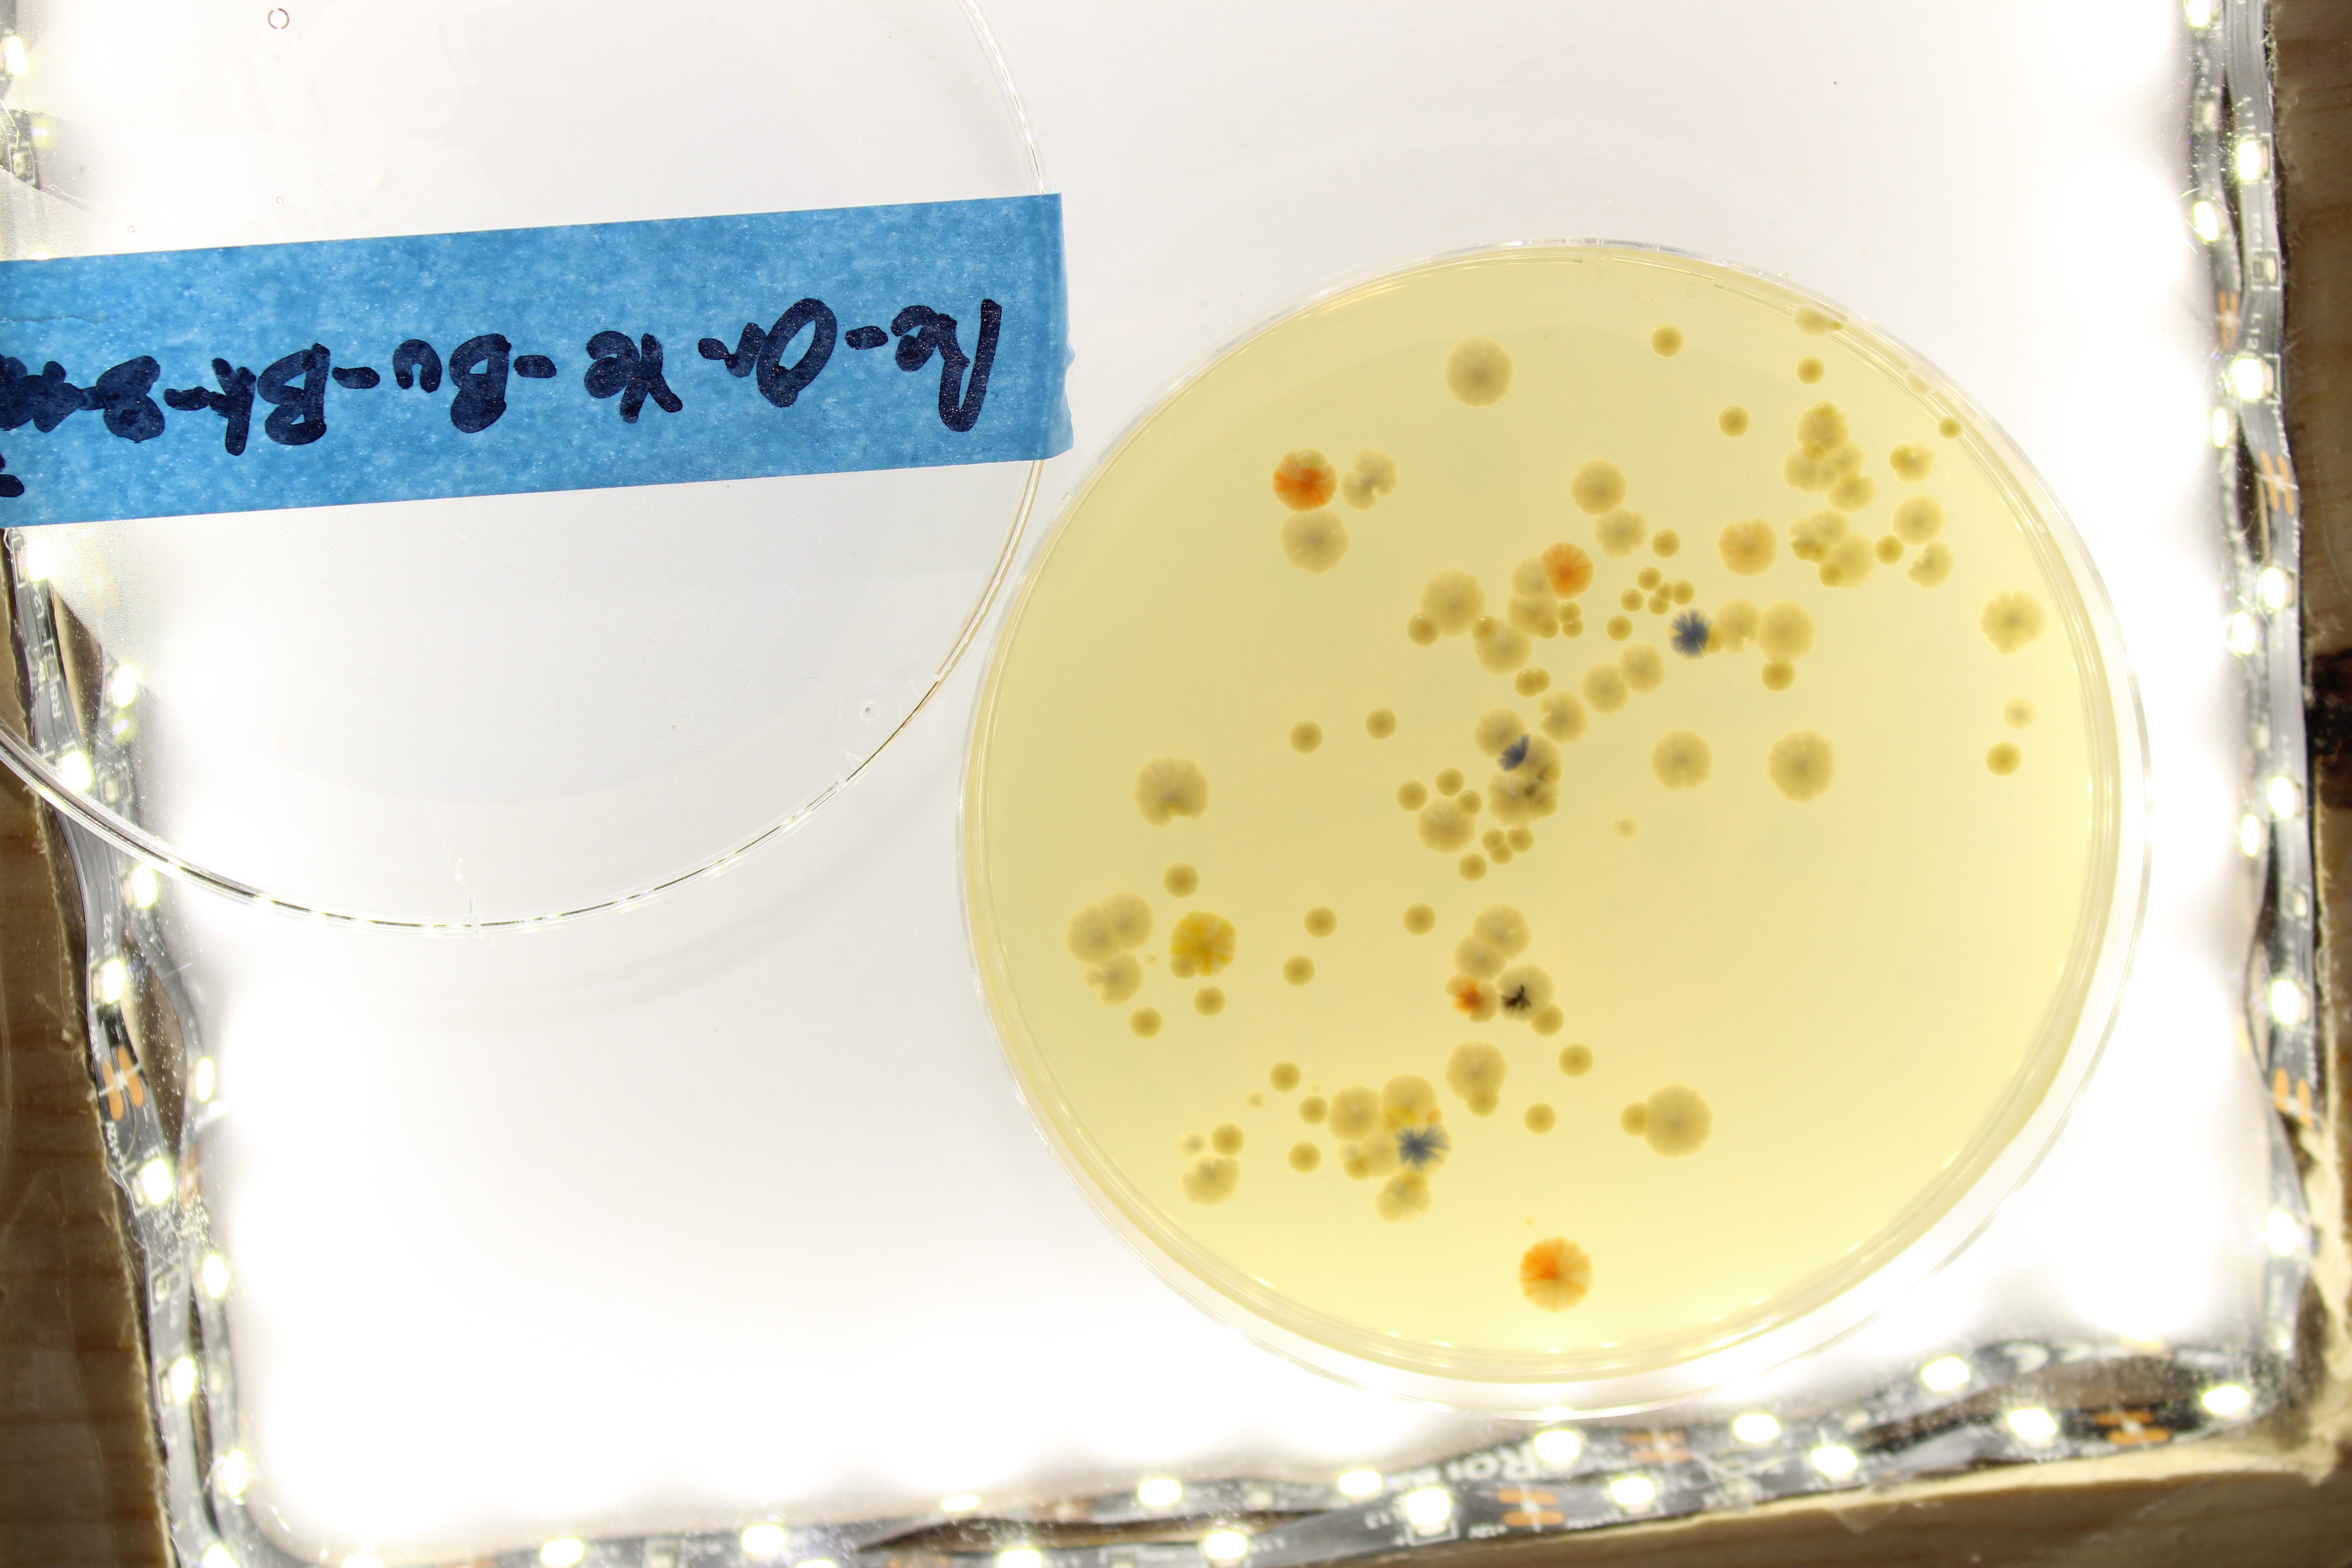black colony: (1500, 968, 1556, 1022), (1521, 781, 1563, 821)
blue colony: (1496, 732, 1559, 779), (1393, 1127, 1451, 1178), (1666, 607, 1710, 660)
orange colony: (1517, 1235, 1591, 1311), (1272, 450, 1339, 513), (1720, 518, 1778, 572), (1542, 543, 1596, 598), (1426, 1108, 1444, 1127)
red colony: (1445, 976, 1500, 1022)
wild colony: (1132, 756, 1209, 826), (1647, 1083, 1715, 1157), (1444, 339, 1516, 408), (1416, 567, 1486, 635), (1768, 732, 1834, 800), (1976, 590, 2046, 651), (1279, 514, 1349, 574), (1757, 598, 1820, 660), (1447, 1043, 1508, 1102), (1652, 728, 1713, 788), (1344, 446, 1398, 513), (1083, 949, 1141, 1006), (1473, 905, 1529, 961), (1818, 532, 1873, 590), (1178, 1157, 1241, 1206), (1570, 460, 1626, 514), (1328, 1085, 1382, 1141), (1418, 800, 1473, 852), (1473, 707, 1524, 759), (1102, 892, 1151, 947), (1066, 906, 1113, 963), (1377, 1176, 1433, 1223), (1710, 600, 1759, 653), (1907, 537, 1958, 586), (1615, 642, 1664, 693), (1477, 626, 1529, 674), (1594, 509, 1649, 555), (1797, 404, 1850, 450), (1540, 691, 1587, 740), (1582, 665, 1628, 716), (1787, 504, 1850, 539), (1451, 935, 1505, 975), (1894, 497, 1943, 541), (1505, 553, 1551, 597), (1783, 451, 1829, 494), (1788, 303, 1845, 336), (1484, 775, 1521, 824), (1888, 446, 1941, 480), (1507, 600, 1557, 634), (1830, 476, 1874, 509), (1829, 441, 1864, 481), (1164, 861, 1200, 898), (1988, 740, 2021, 777), (1129, 1006, 1164, 1039), (1290, 719, 1323, 754), (1561, 1043, 1594, 1078), (1404, 901, 1435, 938), (1393, 779, 1430, 810), (1652, 325, 1685, 359), (1407, 612, 1440, 646), (1194, 985, 1228, 1017), (1286, 1141, 1321, 1172), (1524, 1101, 1559, 1132), (1617, 1101, 1647, 1137), (1759, 661, 1796, 691), (1270, 1057, 1302, 1090), (1369, 1129, 1390, 1178), (1306, 906, 1337, 938), (1213, 1123, 1244, 1155), (1533, 1006, 1565, 1038), (1719, 406, 1752, 436), (1467, 1090, 1502, 1118), (1283, 955, 1314, 985), (1367, 709, 1398, 739), (1297, 1096, 1326, 1127), (2004, 700, 2037, 728), (1796, 355, 1825, 383), (1458, 852, 1486, 882), (1790, 539, 1825, 562), (1507, 828, 1538, 852), (1902, 373, 1935, 395), (1437, 766, 1463, 795), (1605, 612, 1633, 639), (1937, 416, 1967, 441), (1876, 536, 1902, 562), (1656, 530, 1680, 556), (1619, 588, 1645, 612), (1473, 614, 1496, 639), (1638, 567, 1662, 590), (1339, 1141, 1365, 1162), (1341, 1162, 1372, 1179), (1178, 1132, 1204, 1151), (1675, 581, 1694, 607), (1557, 600, 1584, 619), (1514, 668, 1531, 697), (1482, 828, 1503, 851), (1657, 577, 1675, 604), (1533, 667, 1551, 693), (1710, 621, 1722, 654), (1615, 814, 1636, 833), (1461, 789, 1480, 810), (1561, 619, 1584, 637), (1491, 849, 1512, 865), (1542, 623, 1559, 641), (1649, 598, 1668, 614), (1246, 1094, 1265, 1106), (1309, 1083, 1321, 1092), (1148, 954, 1157, 964), (1526, 1220, 1537, 1227)
yellow colony: (1169, 914, 1235, 978), (1381, 1074, 1435, 1127)
